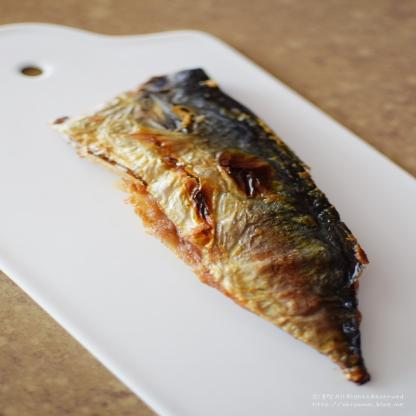Peixe: (51, 55, 404, 396)
